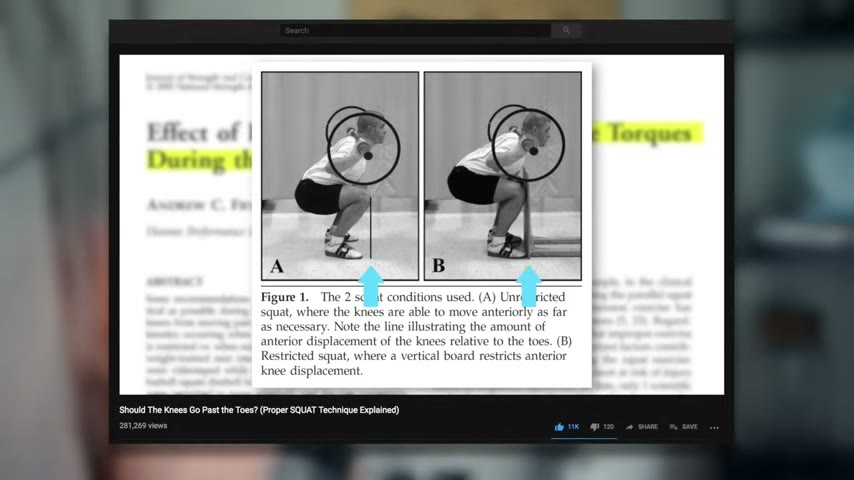barbell_plate_side: (538, 102, 567, 206), (374, 106, 399, 215)
